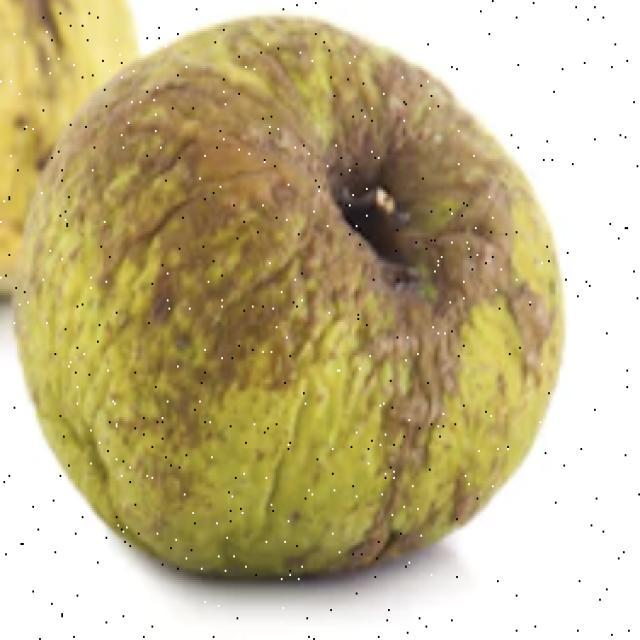Rotten: (32, 37, 543, 595)
